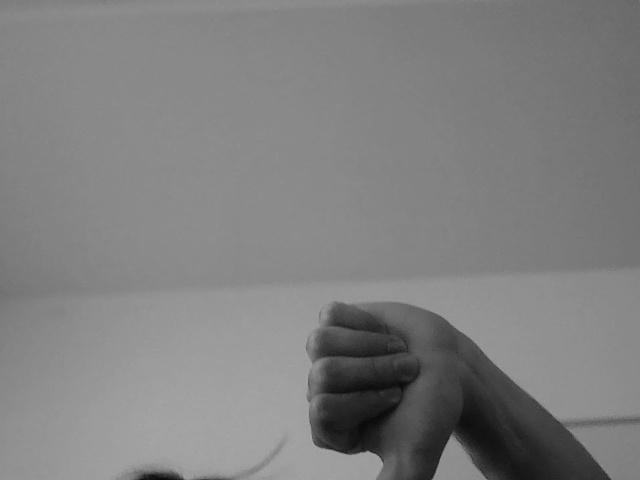bad: (327, 262, 495, 480)
